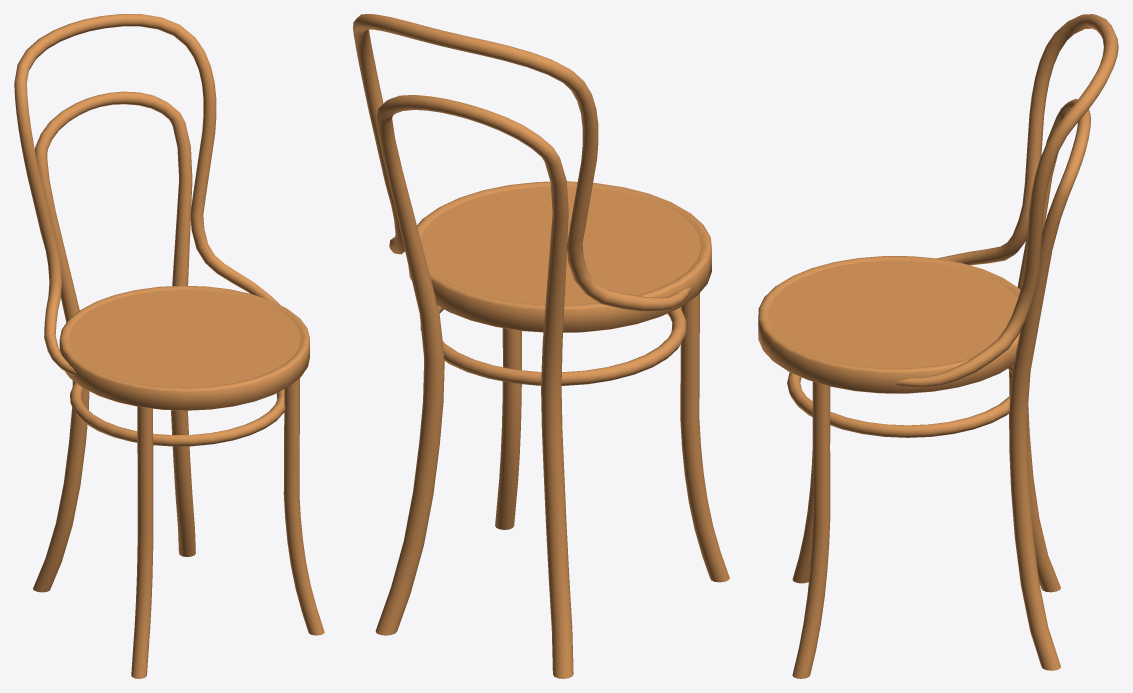
Rendered from chair.fbx.
The picture shows the model from 3 angles, left to right: view 1: azimuth 30°, elevation 25°; view 2: azimuth 150°, elevation 25°; view 3: azimuth 270°, elevation 25°; orthographic projection. The views are drawn at different scales.
Parts seen in each view (by area): view 1: chair; view 2: chair; view 3: chair.
Part boxes in pixels (x1,y1,x2,y2): chair: (14, 14, 324, 678); chair: (353, 14, 729, 678); chair: (758, 14, 1118, 678).
Size of the model in its own units: 0.4296 by 0.9703 by 0.5399.
